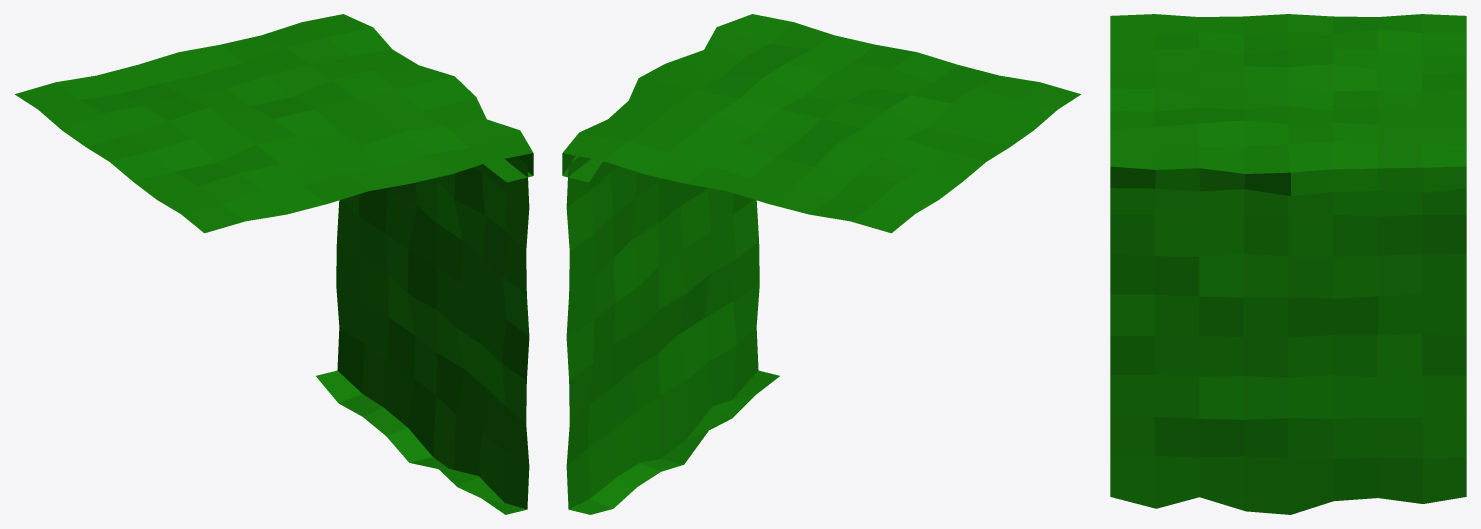
Rendered from EdgeTile.fbx.
3 renders of one model, left to right at view 1: azimuth 30°, elevation 25°; view 2: azimuth 150°, elevation 25°; view 3: azimuth 270°, elevation 25°, orthographic. The views are drawn at different scales.
Visible parts, largest first — view 1: Cube; view 2: Cube; view 3: Cube.
Boxes of the visible parts, x1=… form: Cube: x1=15, y1=14, x2=533, y2=514; Cube: x1=562, y1=14, x2=1080, y2=514; Cube: x1=1110, y1=14, x2=1466, y2=514.
Bounding box in the file's own units: 211 × 222 × 200.
